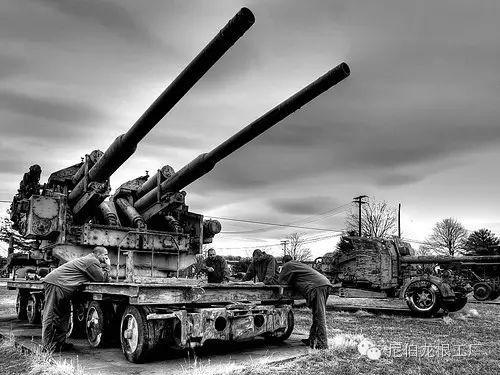MIL_SPG: (8, 8, 350, 362)
